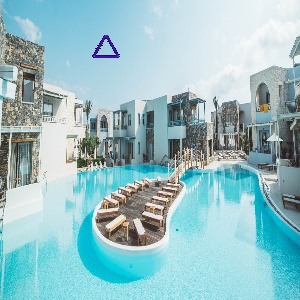triangle: (89, 31, 123, 60)
